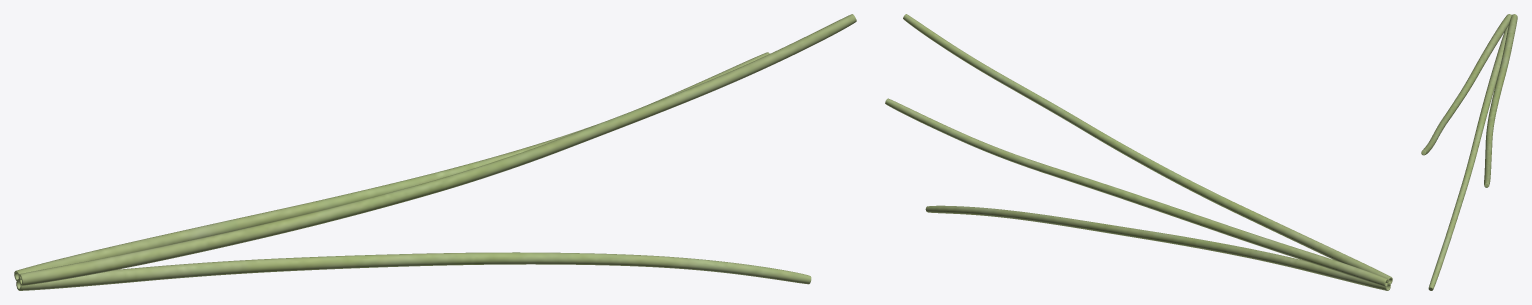
The model's file is TulipStem.obj.
3 views of the same model, side by side, from view 1: azimuth 30°, elevation 25°; view 2: azimuth 150°, elevation 25°; view 3: azimuth 270°, elevation 25° (orthographic). The views are drawn at different scales.
Visible parts, largest first — view 1: TulipStem; view 2: TulipStem; view 3: TulipStem.
Part boxes in pixels (<box>): TulipStem: <box>14,14,856,290</box>; TulipStem: <box>885,14,1392,290</box>; TulipStem: <box>1421,14,1517,290</box>.
Bounding box in the file's own units: 0.3606 × 0.1199 × 0.0695.
1 material, 1 textured.
